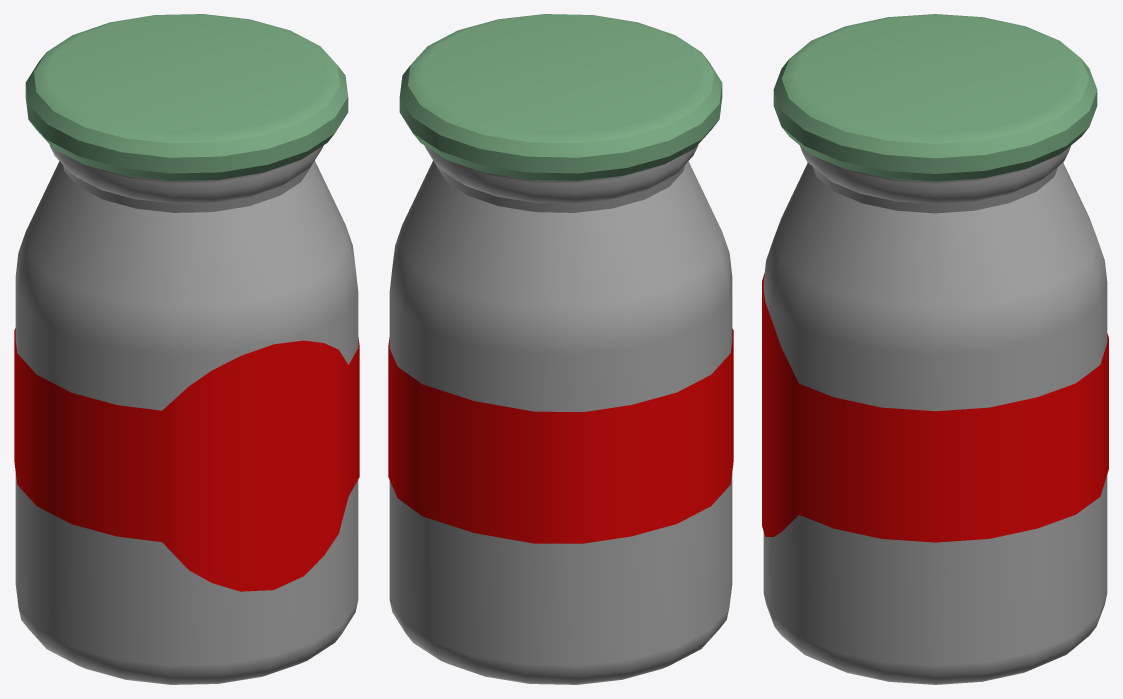
File: S2_RanchDressing.fbx
The picture shows the model from 3 angles, left to right: view 1: azimuth 30°, elevation 25°; view 2: azimuth 150°, elevation 25°; view 3: azimuth 270°, elevation 25°; orthographic projection.
Visible parts, largest first — view 1: S2_RanchDressing; view 2: S2_RanchDressing; view 3: S2_RanchDressing.
Boxes of the visible parts, left/top/right/bottom form: S2_RanchDressing: left=14, top=14, right=359, bottom=684; S2_RanchDressing: left=388, top=14, right=733, bottom=684; S2_RanchDressing: left=762, top=14, right=1108, bottom=684.
Bounding box in the file's own units: 832 × 1455 × 832.
